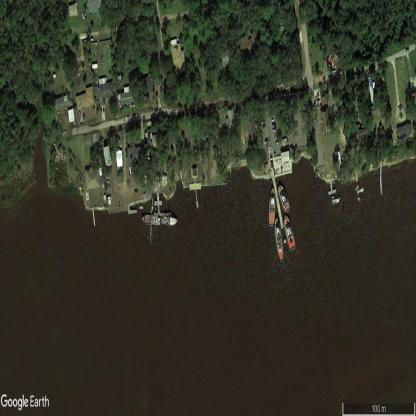ship: (284, 215, 297, 252), (274, 218, 284, 261), (277, 184, 291, 214), (269, 187, 276, 225), (142, 215, 160, 226), (162, 216, 178, 226), (332, 198, 339, 205)
